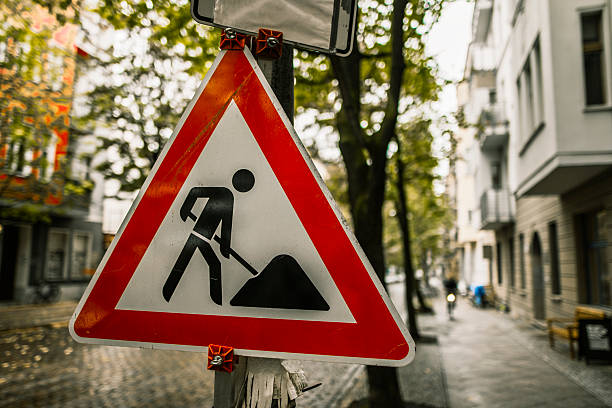yol_calismasi_levha: (64, 39, 413, 365)
